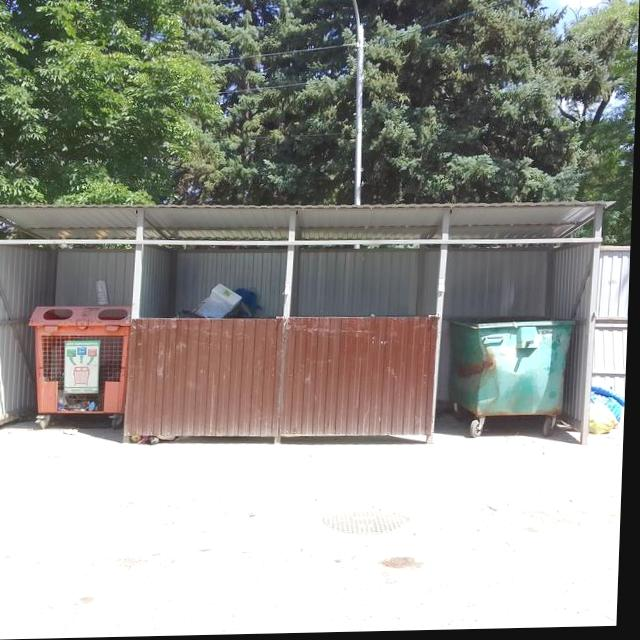Trash_Can_Empty: (448, 315, 578, 419), (28, 303, 133, 417)
